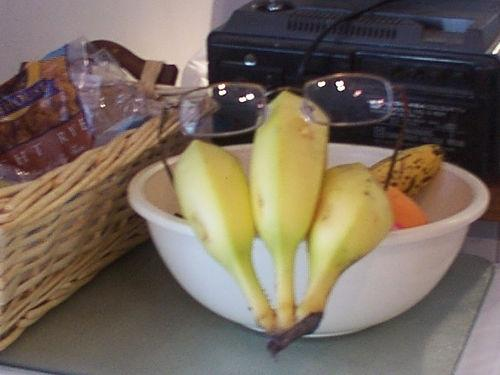banana: (248, 90, 330, 344), (173, 138, 277, 336), (298, 162, 394, 317), (367, 144, 444, 204)
orange: (383, 186, 430, 232)
